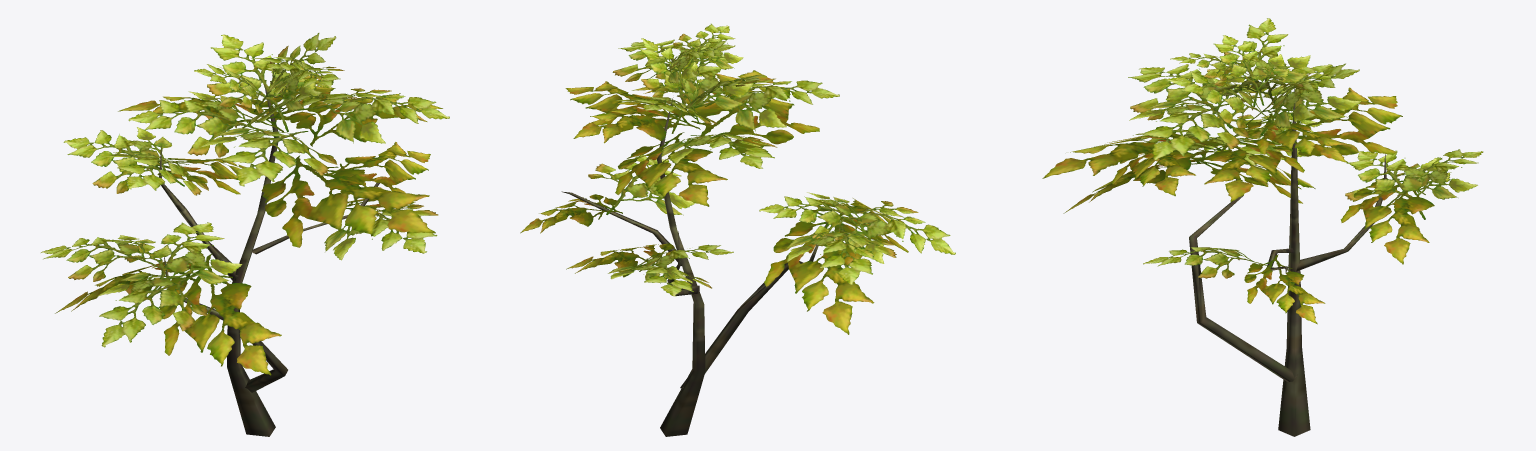
Rendered from zc_guanmu.FBX.
3 views of the same model, side by side, from view 1: azimuth 30°, elevation 25°; view 2: azimuth 150°, elevation 25°; view 3: azimuth 270°, elevation 25° (orthographic). The views are drawn at different scales.
Parts seen in each view (by area): view 1: zc_guanmu; view 2: zc_guanmu; view 3: zc_guanmu.
Boxes of the visible parts, left/top/right/bottom form: zc_guanmu: left=41, top=33, right=449, bottom=436; zc_guanmu: left=520, top=23, right=955, bottom=436; zc_guanmu: left=1042, top=18, right=1483, bottom=436.
Bounding box in the file's own units: 469 × 517 × 425.
